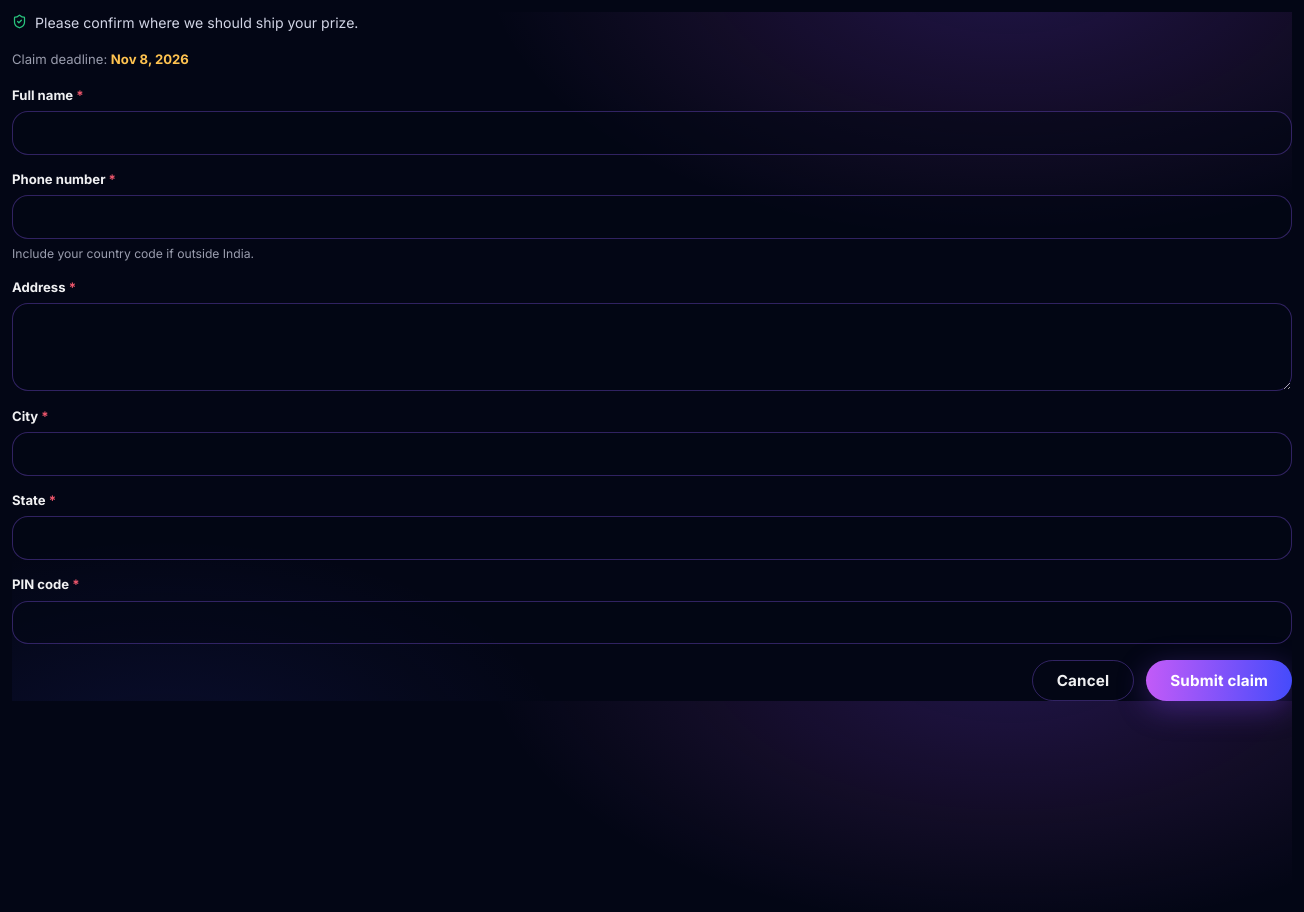
Scenario: PrizeClaimForm submission › surfaces a retryable server error
Step 1. Type "Asha Kumar" into the field labelled "Full name *" → (652, 133), box [12,111,1292,155]
Step 2. Type "9876543210" into the field labelled "Phone number *" → (652, 217), box [12,195,1292,239]
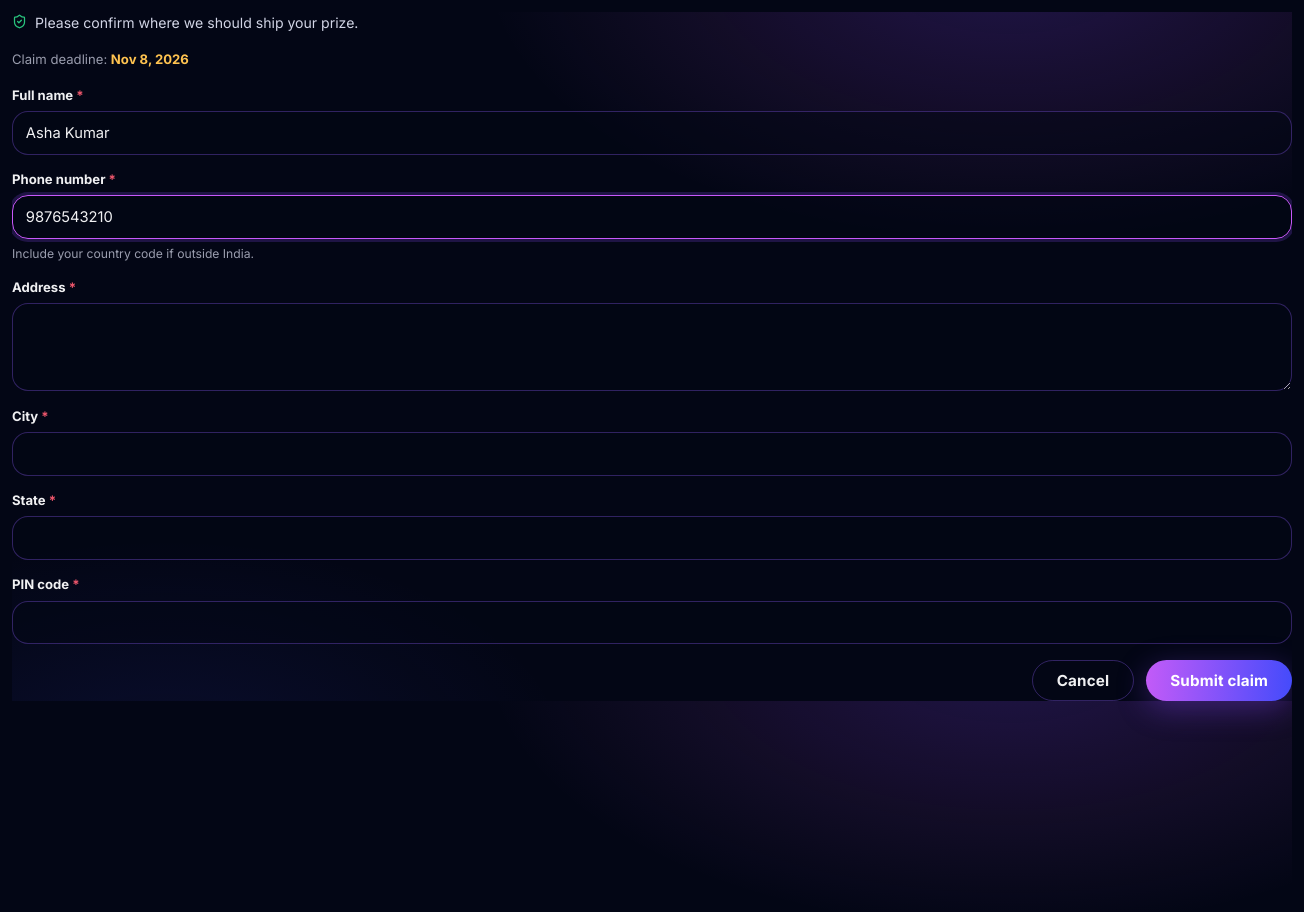
Step 3. Type "12 MG Road" into the text box labelled "Address *" → (652, 347), box [12,303,1292,391]
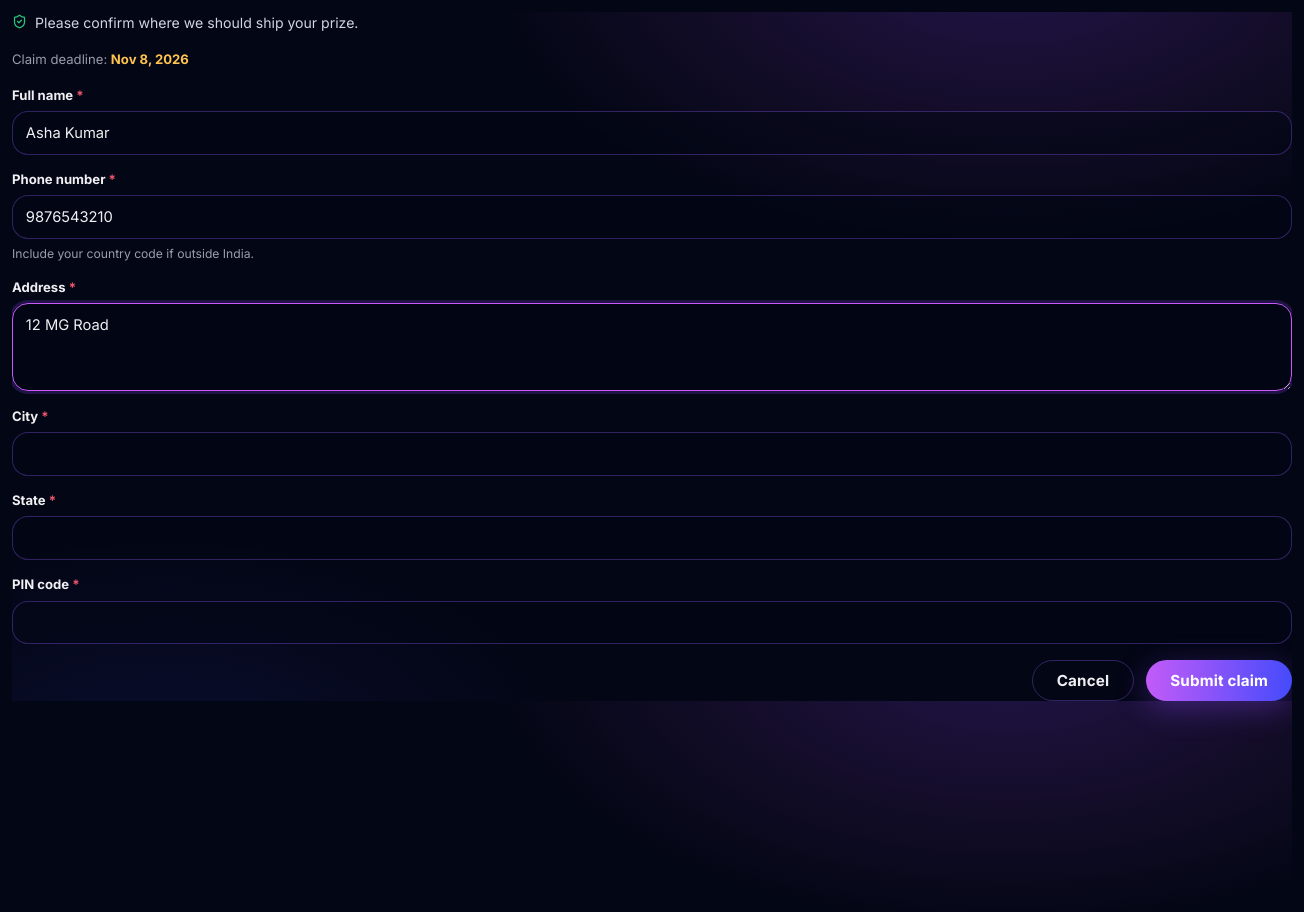
Step 4. Type "Pune" into the field labelled "City *" → (652, 454), box [12,432,1292,476]
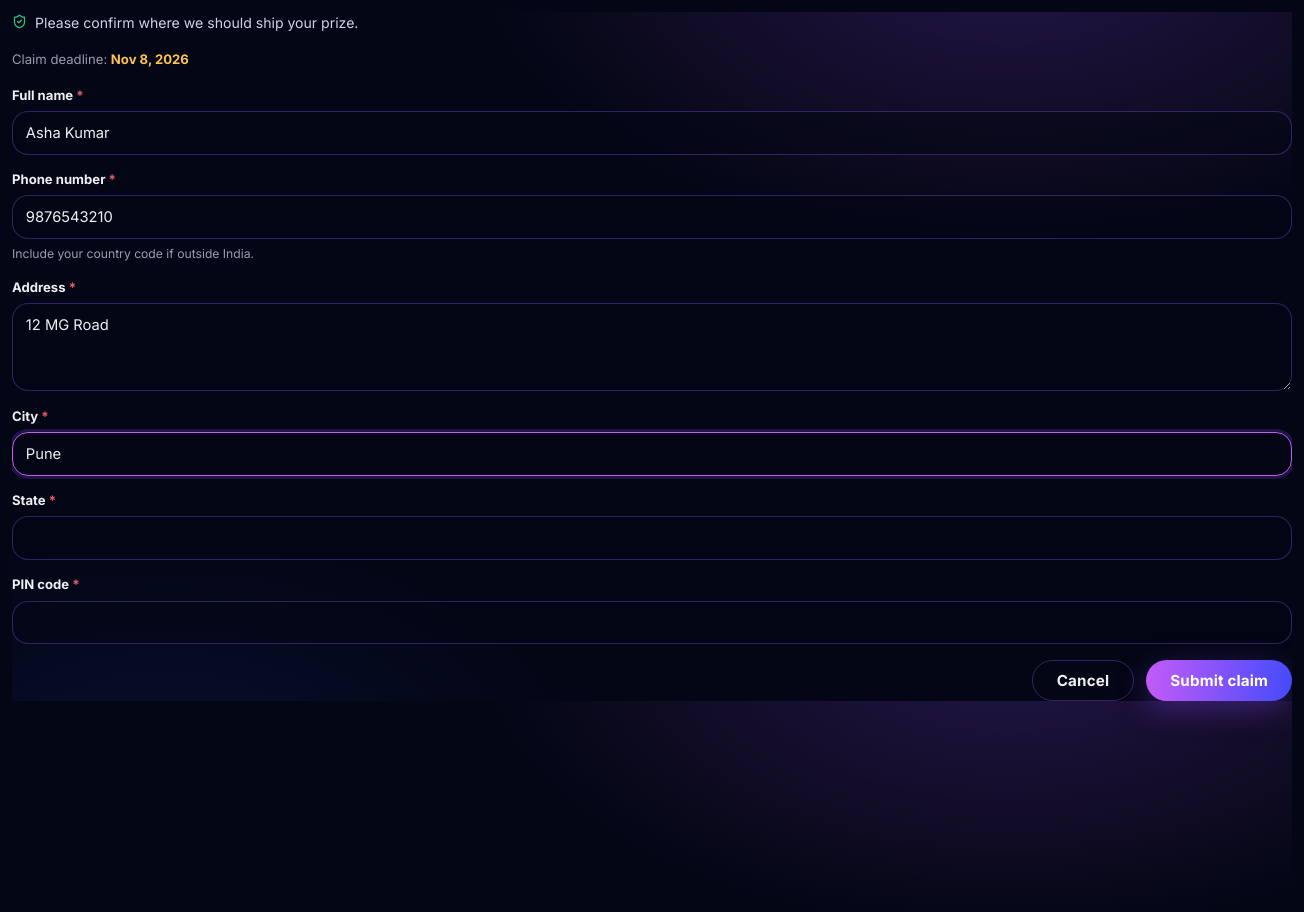
Step 5. Type "Maharashtra" into the field labelled "State *" → (652, 538), box [12,516,1292,560]
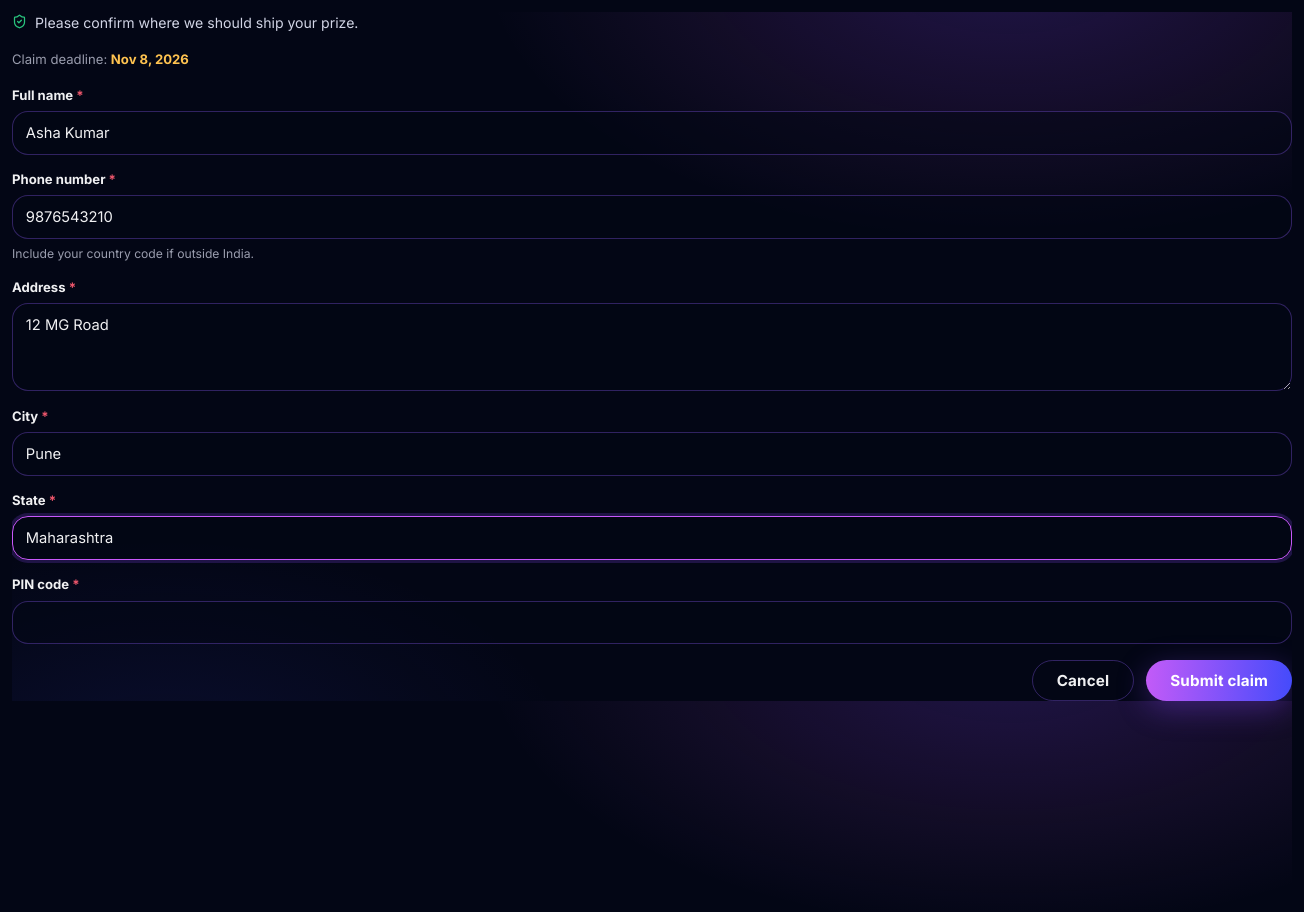
Step 6. Type "411001" into the field labelled "PIN code *" → (652, 623), box [12,601,1292,644]
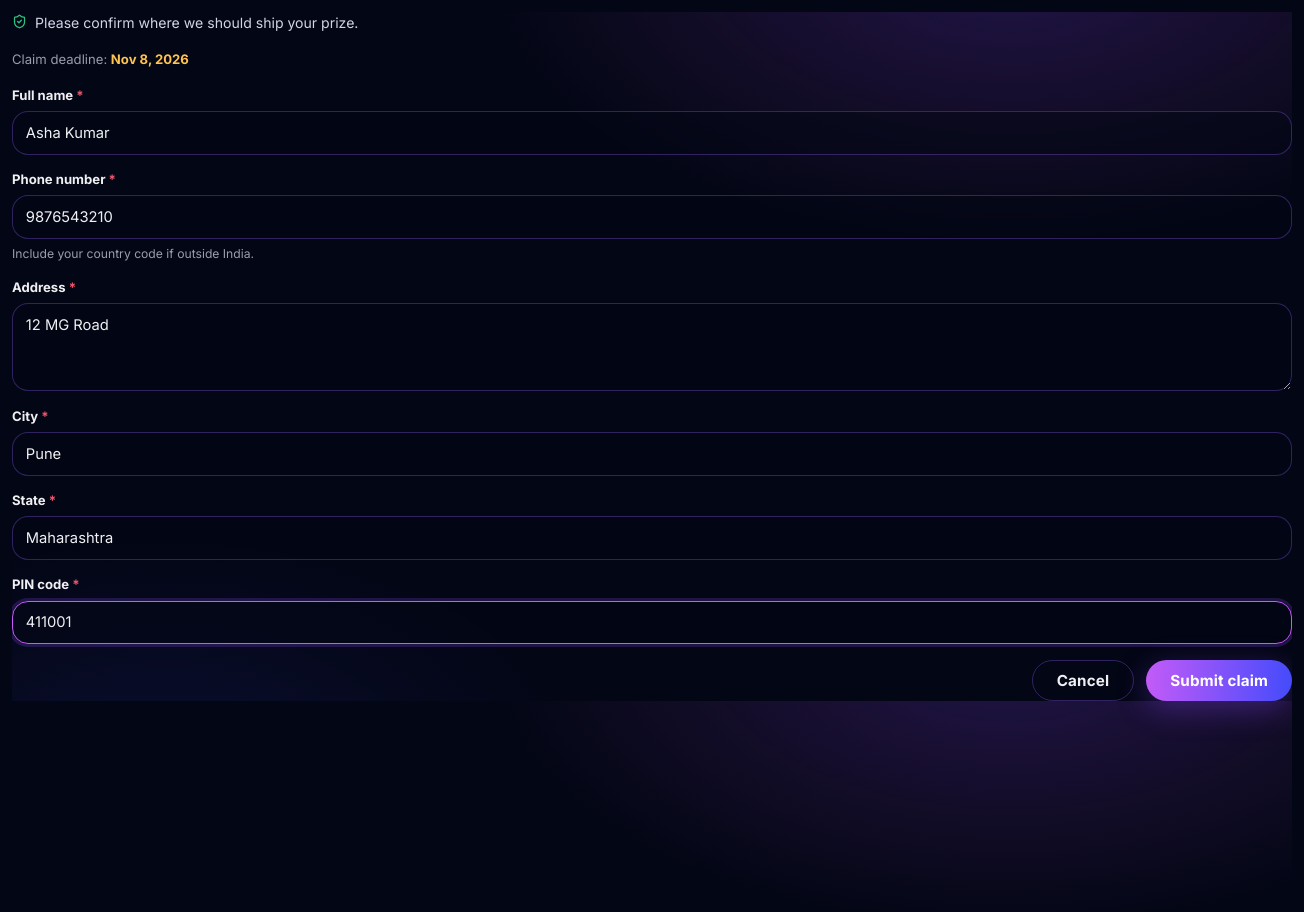
Step 7. Click the button "Submit claim" → (1219, 681), box [1146,660,1292,701]
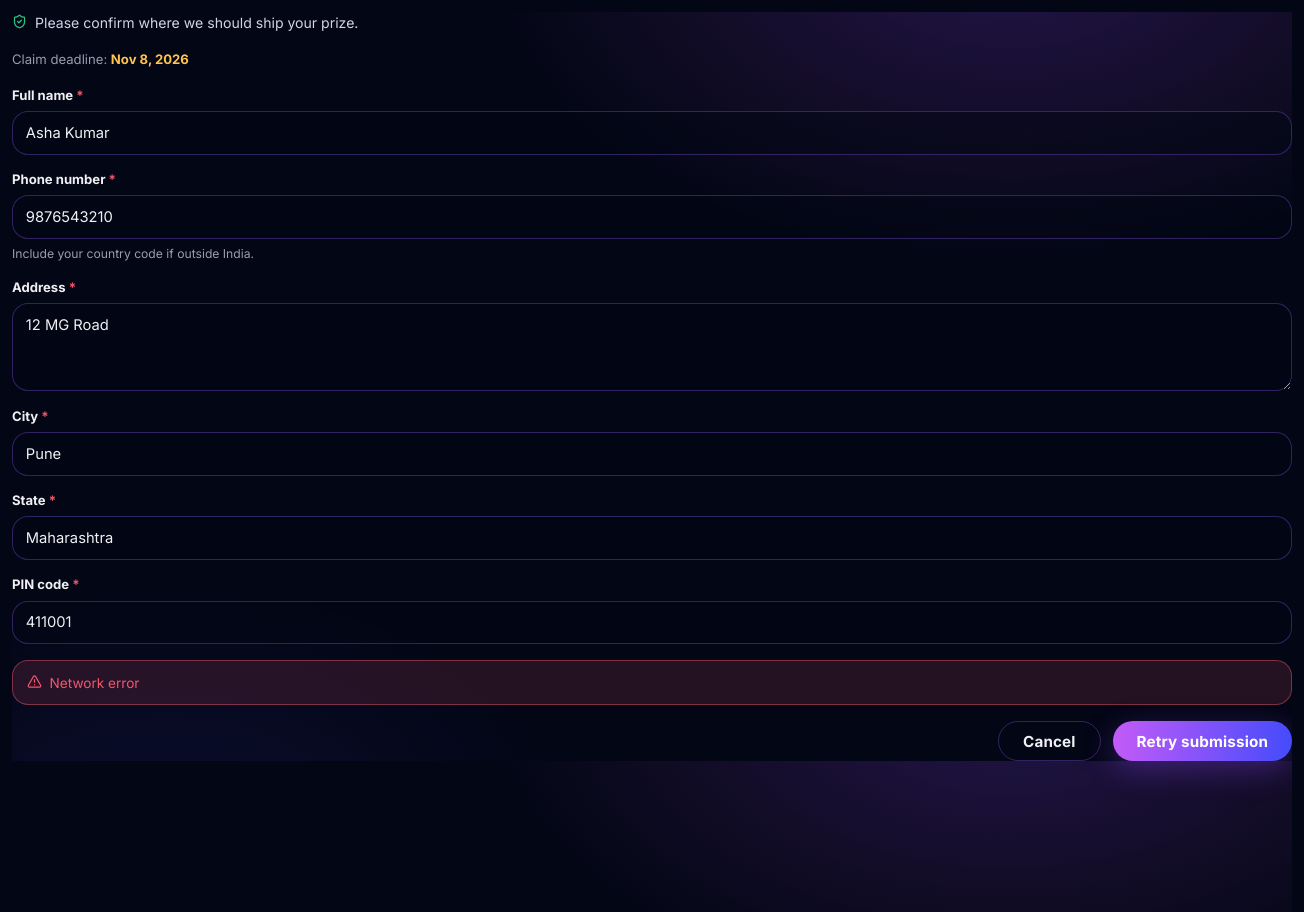
Expected: the message reads "Network error", [50,675,140,691]
Expected: the button "Retry submission" is shown, [1113,721,1292,761]
